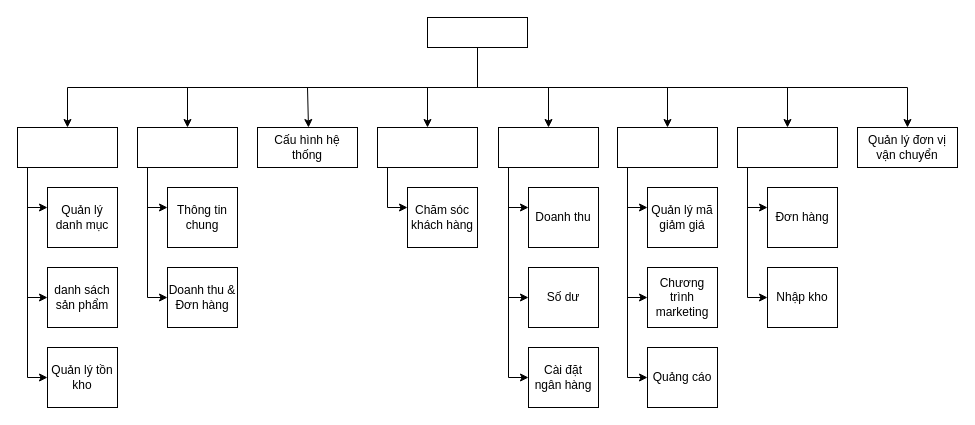
Image size: 975x425. Some labels were removed from this diagram. Each missing label, with the box of its shape:
Admin: (426, 16, 528, 48)
Dashboard: (136, 126, 238, 168)
Marketing: (616, 126, 718, 168)
Quản lý khách hàng: (376, 126, 478, 168)
Quản lý sản phẩm: (16, 126, 118, 168)
Tài chính: (498, 126, 598, 168)
Vận hành: (736, 126, 838, 168)
